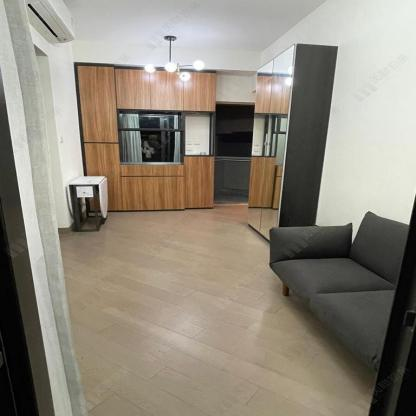AC: (25, 0, 75, 43)
Cupboard: (74, 63, 218, 212), (246, 44, 339, 244)
Dining Table: (66, 176, 108, 233)
